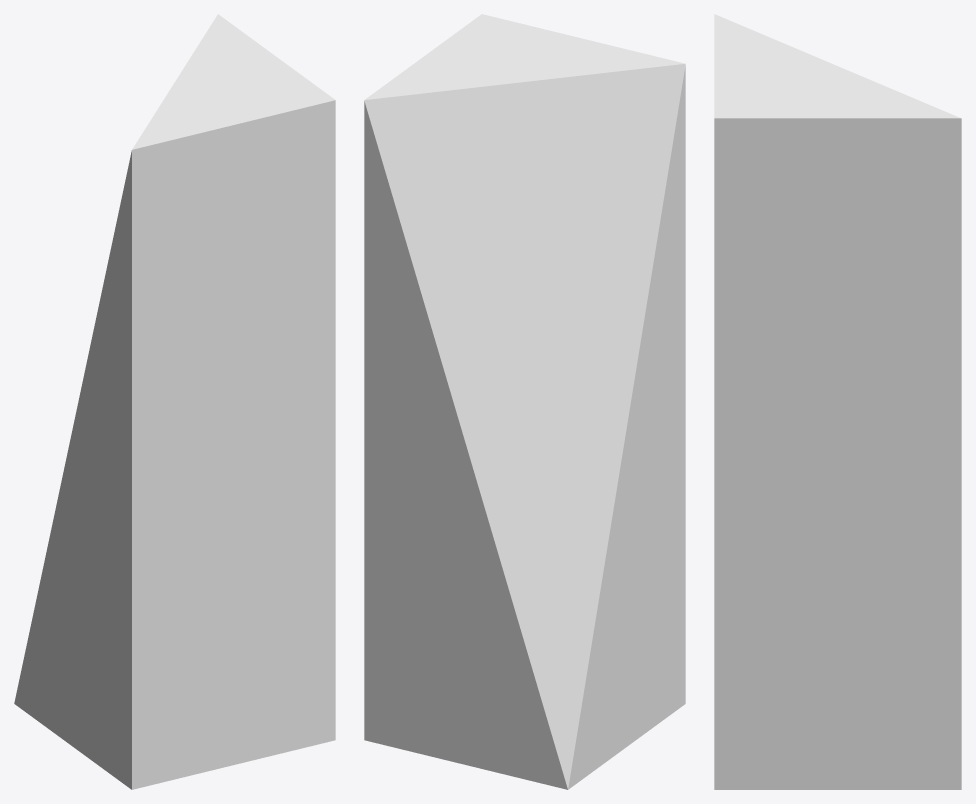
Rendered from Pol_QieJianLiFangTi_FG_1X3_on.FBX.
3 renders of one model, left to right at view 1: azimuth 30°, elevation 25°; view 2: azimuth 150°, elevation 25°; view 3: azimuth 270°, elevation 25°, orthographic. The views are drawn at different scales.
Visible parts, largest first — view 1: Box003; view 2: Box003; view 3: Box003.
Part boxes in pixels (bbox=[...]): Box003: bbox=[14, 14, 335, 789]; Box003: bbox=[364, 14, 685, 789]; Box003: bbox=[714, 14, 961, 789].
Bounding box in the file's own units: 1 × 3 × 1.
